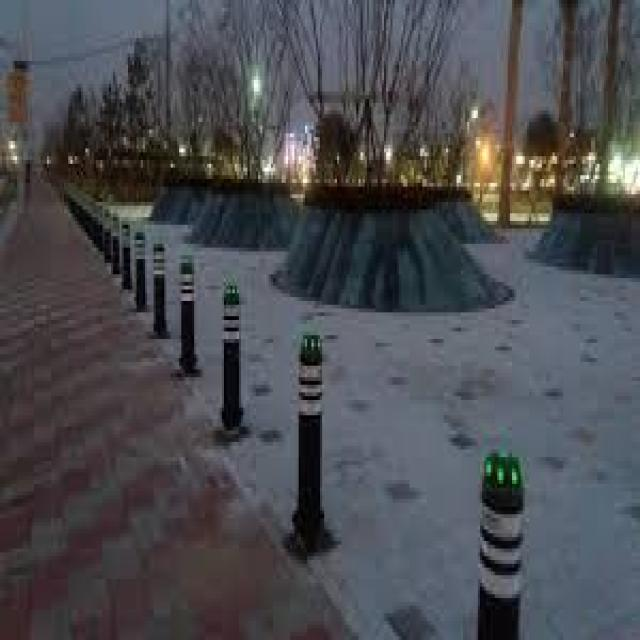bollard: (465, 426, 537, 640), (289, 308, 335, 576), (213, 275, 256, 450), (174, 248, 204, 381), (147, 226, 171, 344), (131, 222, 150, 322), (121, 216, 135, 302)
